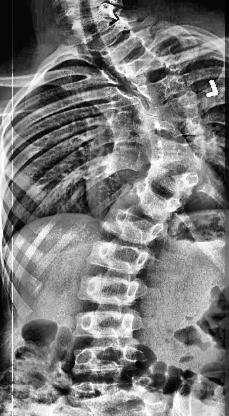Vertebrae: (68, 310, 138, 346), (72, 340, 138, 376), (90, 240, 156, 276), (146, 157, 204, 193), (128, 182, 180, 222), (104, 206, 160, 242), (79, 280, 145, 308), (123, 52, 172, 86), (101, 36, 147, 68), (138, 74, 190, 102), (152, 136, 212, 160), (72, 9, 116, 41), (151, 109, 210, 131), (149, 90, 203, 113), (94, 18, 134, 46)
